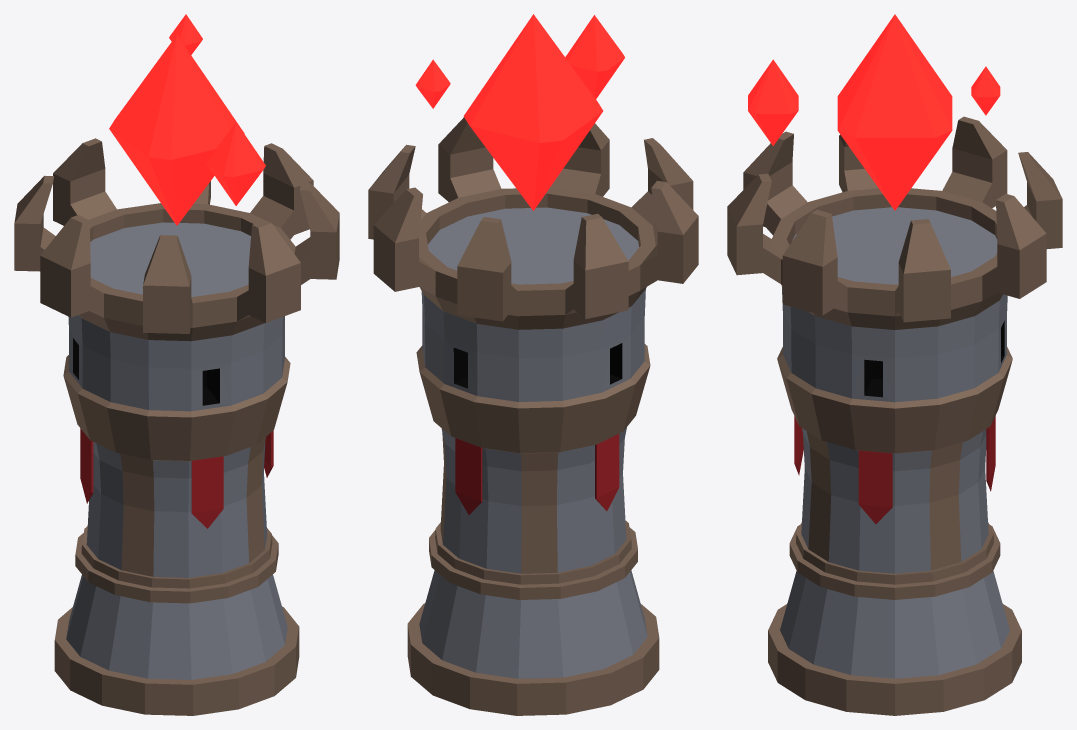
File: mage_tower.dae
3 views of the same model, side by side, from view 1: azimuth 30°, elevation 25°; view 2: azimuth 150°, elevation 25°; view 3: azimuth 270°, elevation 25° (orthographic). The views are drawn at different scales.
Visible parts, largest first — view 1: Tower, CrystalBig, CrystalMedium, CrystalSmall; view 2: Tower, CrystalBig, CrystalMedium, CrystalSmall; view 3: Tower, CrystalBig, CrystalMedium, CrystalSmall.
Part boxes in pixels (x1,y1,x2,y2): Tower: (14,138,339,715); CrystalBig: (109,35,244,225); CrystalMedium: (206,122,265,205); CrystalSmall: (169,14,202,54); Tower: (368,117,698,715); CrystalBig: (463,14,603,210); CrystalMedium: (565,15,624,98); CrystalSmall: (415,59,450,108); Tower: (727,116,1062,715); CrystalBig: (837,14,952,210); CrystalMedium: (748,59,798,145); CrystalSmall: (971,66,1000,115).
Size of the model in its own units: 15.81 by 15.81 by 33.73.
